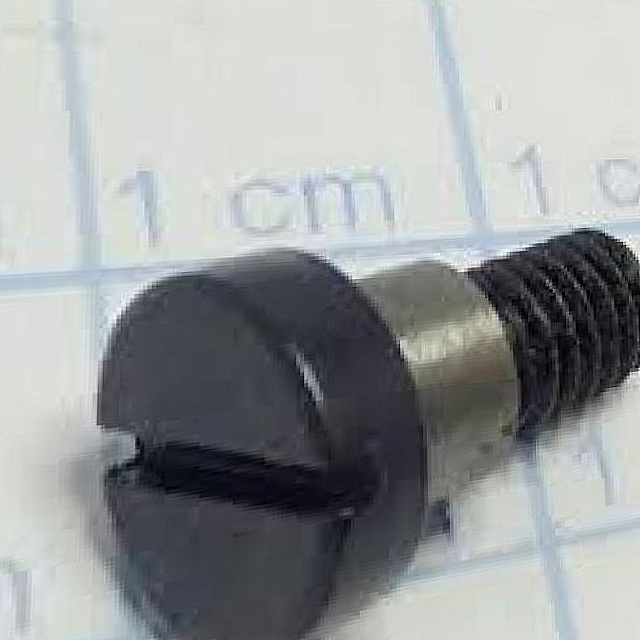duz: (85, 238, 427, 640)
